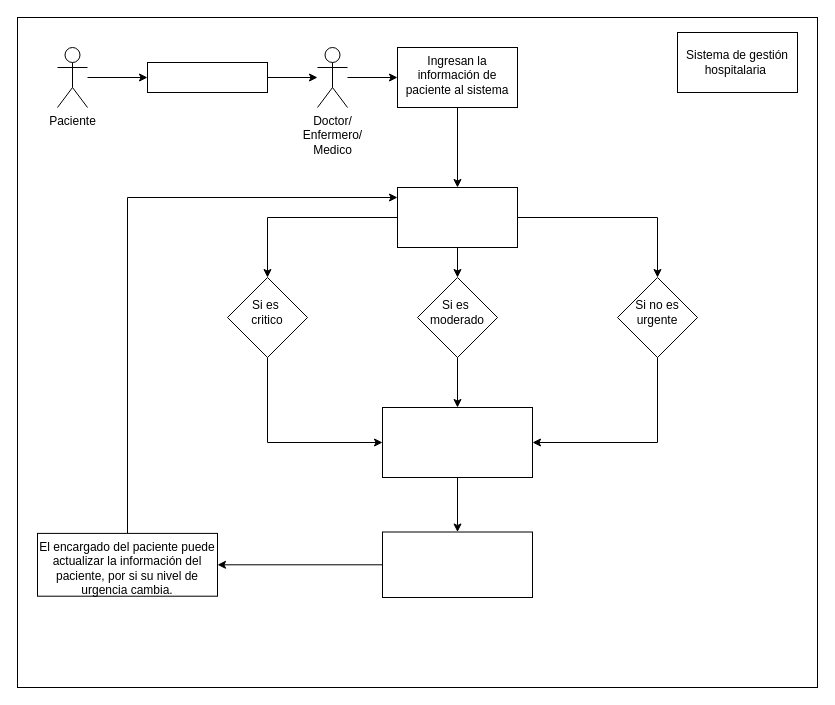
This 835x705 diagram has some shape labels left out. Here are the shapes that lost their labels. From the top down, the centre of each, then its label:
At (x=207, y=77): "Ingresa al hospital".
At (x=457, y=217): "El sistema debe verificar el nivel de urgencia del paciente".
At (x=457, y=442): "Se le asignan sus respectivos recursos de camas, doctores y equipos".
At (x=457, y=564): "Se le notifica a cada recurso sobre la asignación del nuevo paciente".
